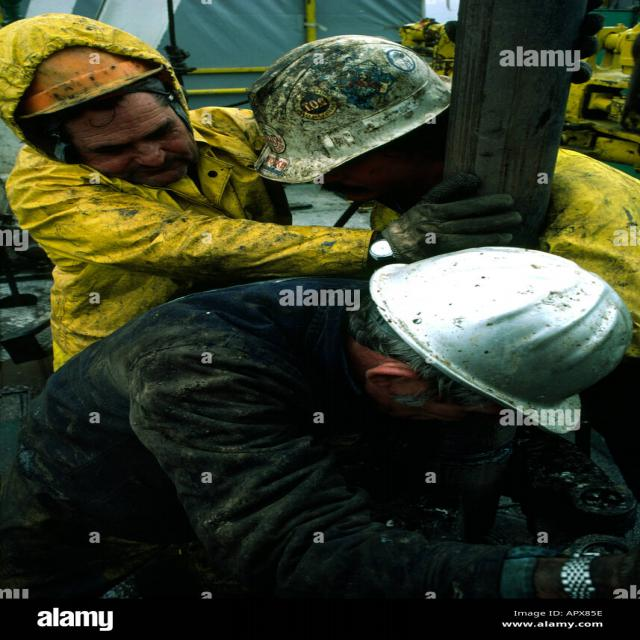glove: (365, 188, 520, 270)
helmet: (365, 251, 640, 435), (253, 39, 484, 211), (0, 8, 197, 186)
no_goggles: (51, 122, 201, 166)
